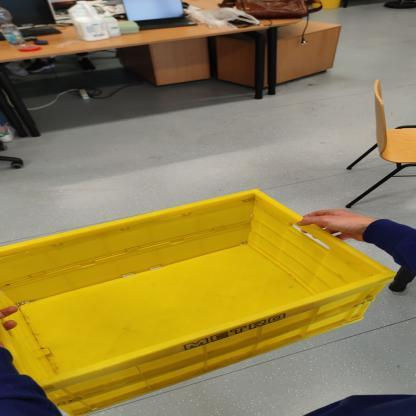-: (0, 181, 396, 416)
